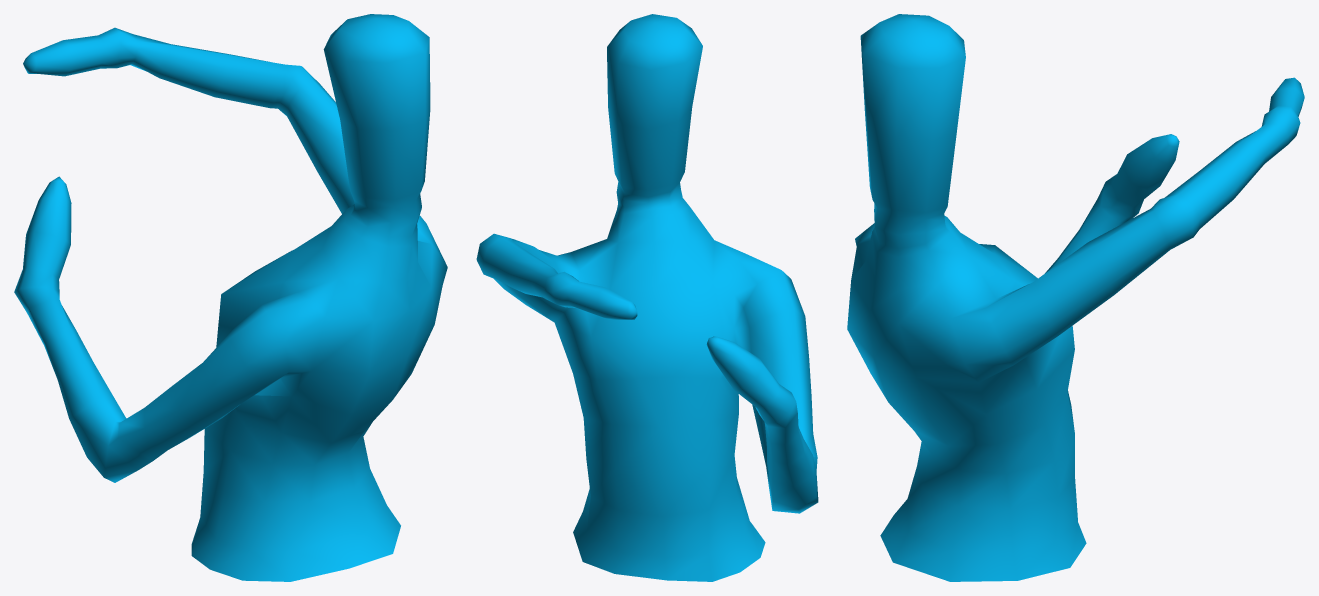
The model's file is FIGURINE_PART2_M.FBX.
The picture shows the model from 3 angles, left to right: view 1: azimuth 30°, elevation 25°; view 2: azimuth 150°, elevation 25°; view 3: azimuth 270°, elevation 25°; orthographic projection. The views are drawn at different scales.
Visible parts, largest first — view 1: HAUT_ROBE002; view 2: HAUT_ROBE002; view 3: HAUT_ROBE002.
Part boxes in pixels (x1,y1,x2,y2): HAUT_ROBE002: (14,14,447,581); HAUT_ROBE002: (476,14,818,581); HAUT_ROBE002: (847,14,1304,581).
Size of the model in its own units: 3.86 by 5.64 by 4.26.
